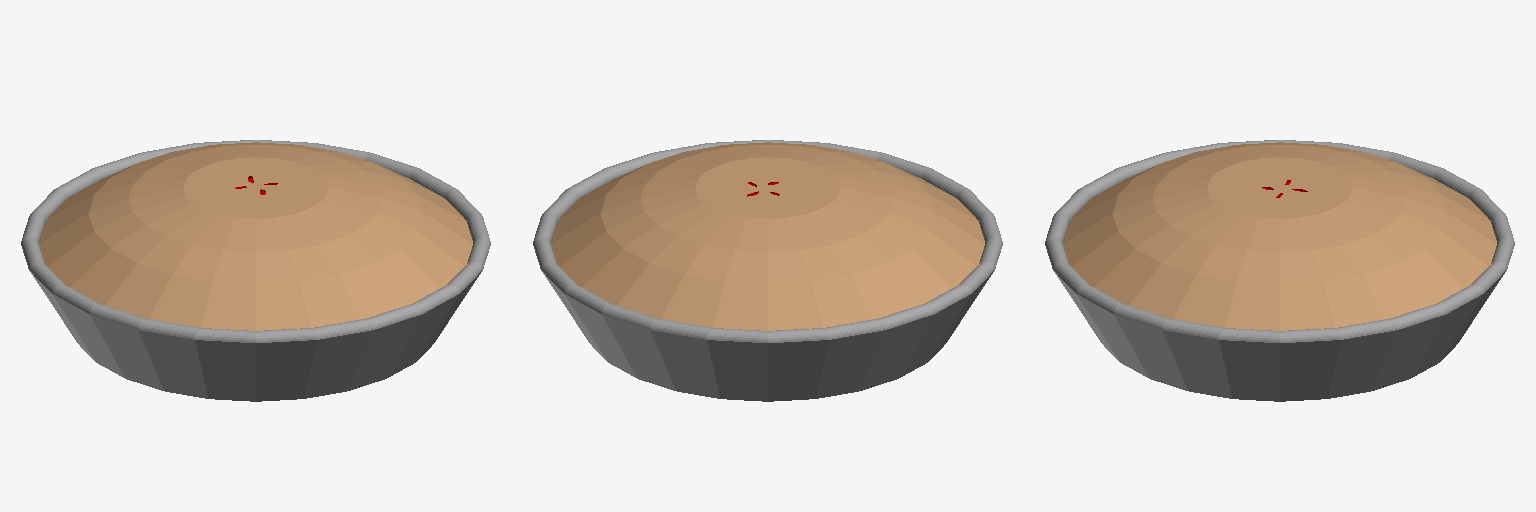
The model's file is pie.obj.
3 renders of one model, left to right at view 1: azimuth 30°, elevation 25°; view 2: azimuth 150°, elevation 25°; view 3: azimuth 270°, elevation 25°, orthographic.
Visible parts, largest first — view 1: Mesh1 Model; view 2: Mesh1 Model; view 3: Mesh1 Model.
Part boxes in pixels (bbox=[...]): Mesh1 Model: bbox=[21, 140, 490, 401]; Mesh1 Model: bbox=[533, 140, 1002, 401]; Mesh1 Model: bbox=[1045, 140, 1514, 401].
Bounding box in the file's own units: 457 × 146 × 457.